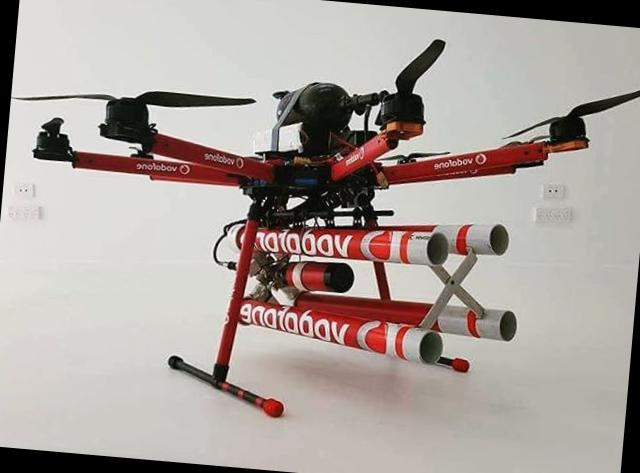drone: (0, 0, 640, 283)
